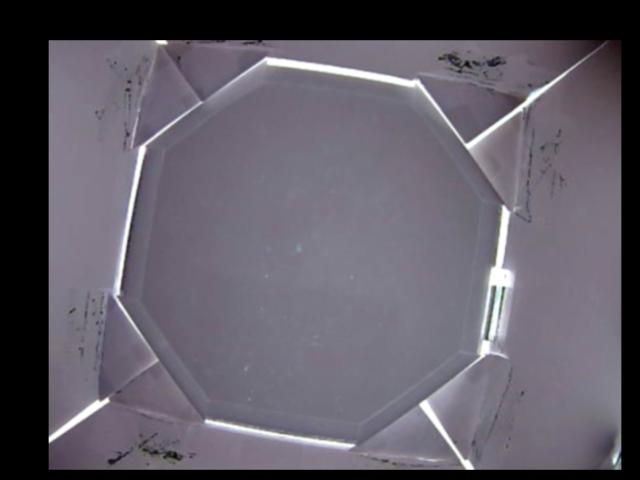Battery: (482, 268, 510, 341)
